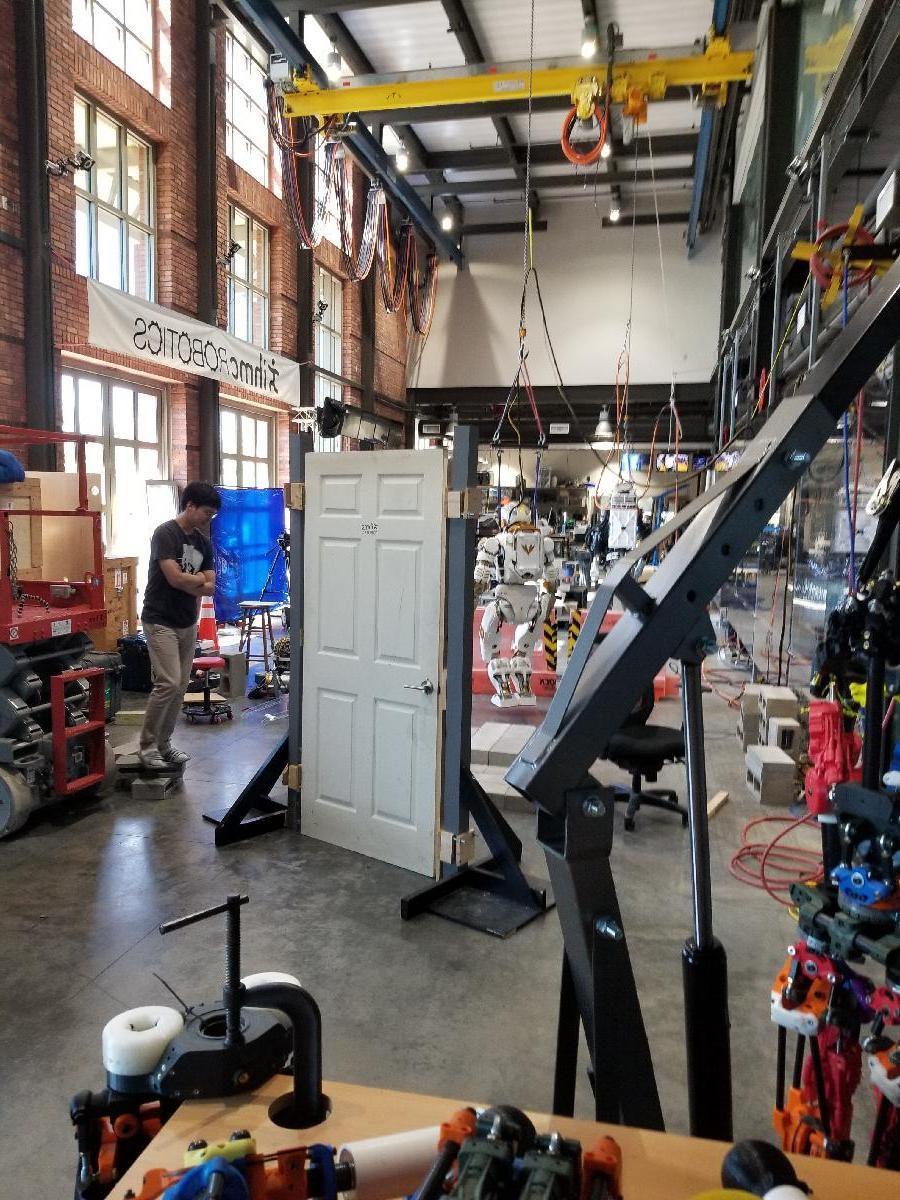door: (287, 448, 449, 861)
handle: (403, 678, 434, 696)
